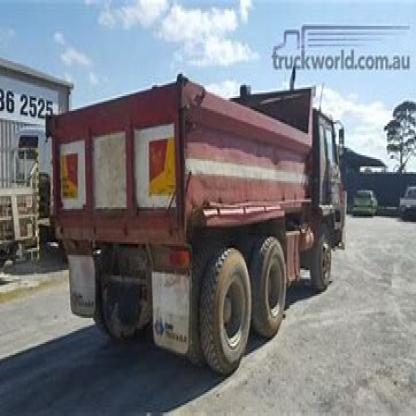dump_truck: (43, 50, 363, 377)
